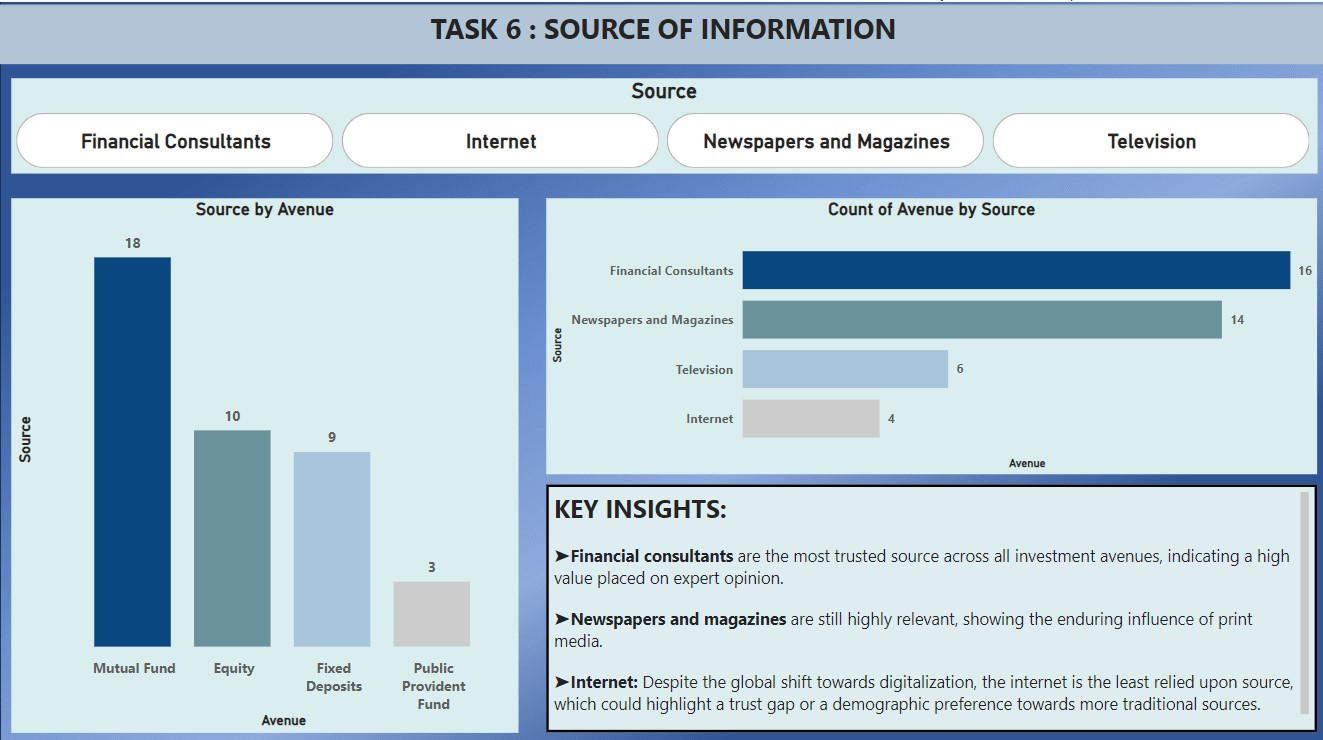

The page's visual inventory and layout, read from the dashboard file:
{"tool":"powerbi","page":{"name":"TASK 6","canvas":[1280,720],"ordinal":5},"visuals":[{"type":"advancedSlicerVisual","fields":{"Values":["Sales_data.Source"]},"box":[10.9,73.6,1260.7,91.7],"z":0},{"type":"columnChart","title":"Source by Avenue","fields":{"Category":["Sales_data.Avenue"],"Y":["CountNonNull(Sales_data.Source)"]},"box":[10.9,189.4,489.8,516.4],"z":1000},{"type":"barChart","fields":{"Category":["Sales_data.Source"],"Y":["CountNonNull(Sales_data.Avenue)"]},"box":[527.2,189.4,744.4,266.6],"z":2000},{"type":"textbox","box":[0,2.4,1280.3,57.5],"z":3000},{"type":"textbox","box":[527.2,465.7,744.4,238.9],"z":4000}]}

Visuals, with their boxes in screenshot pixels (x1, y1, x2, y2), scaled from the page's 1280x720 canvas onto the 1323x740 screenshot:
advancedSlicerVisual - Sales_data.Source: crop(11, 76, 1314, 170)
"Source by Avenue" columnChart: crop(11, 195, 518, 725)
barChart - Sales_data.Source x CountNonNull(Sales_data.Avenue): crop(545, 195, 1314, 469)
textbox: crop(0, 2, 1322, 62)
textbox: crop(545, 479, 1314, 724)
